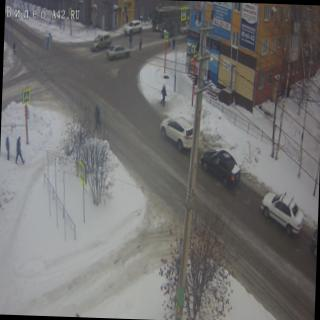large-vehicle: (151, 6, 192, 33)
small-vehicle: (260, 189, 304, 235), (200, 149, 240, 189), (158, 114, 196, 154), (106, 44, 130, 62), (90, 33, 112, 51), (161, 20, 178, 40), (124, 19, 142, 35), (180, 20, 190, 36)
